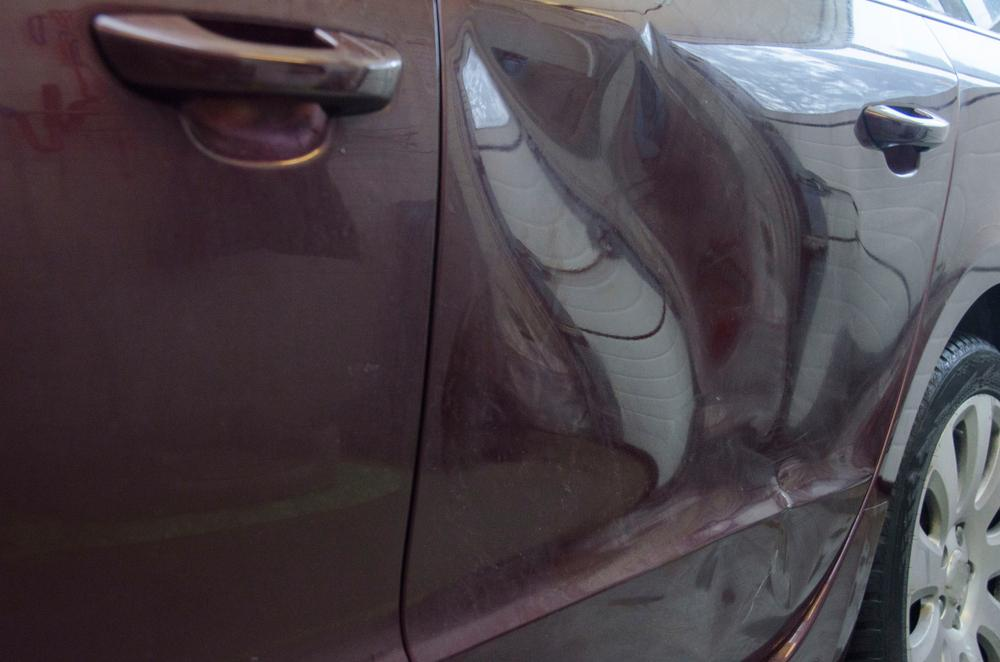dent: (454, 8, 901, 632)
